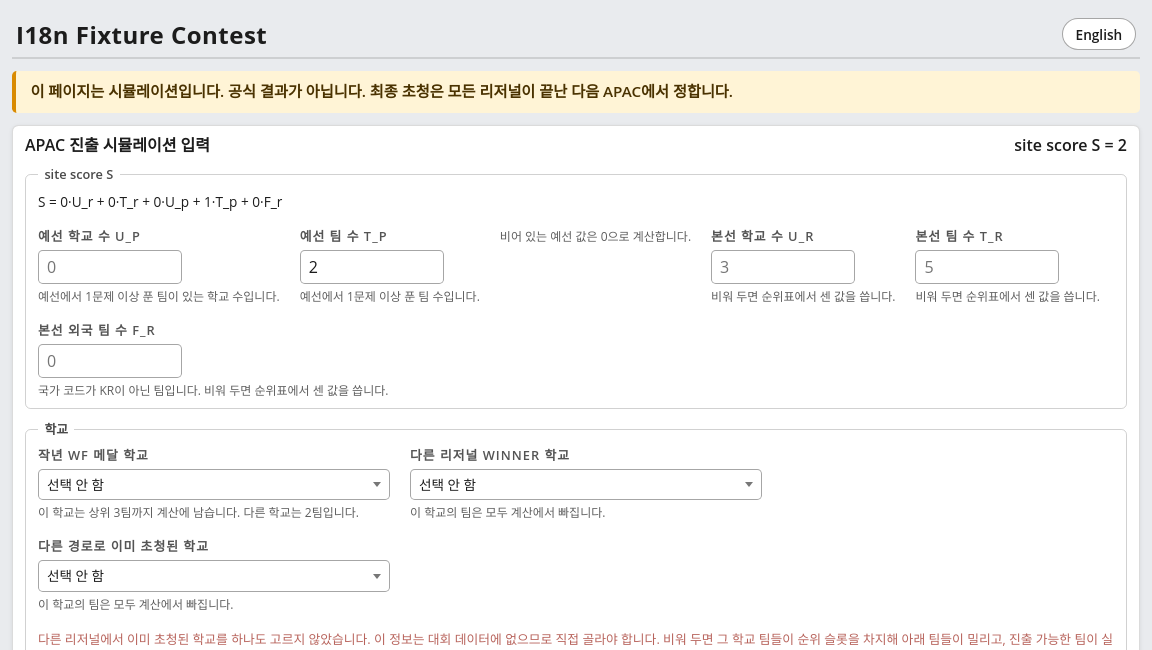
Test: language toggle › regional: banner, star legend and panel switch both ways
Expected: the text "이 페이지는 시뮬레이션입니다. 공식 결과가 아닙니다. 최종 초청은 모든 리저널이 끝난 다음 APAC에서 정합니다." is shown, [12,71,1140,113]
Expected: the text "APAC 진출 시뮬레이션 입력" is shown, [25,134,210,156]
Click the button "English": {"x": 1099, "y": 34} [1062,18,1136,50]
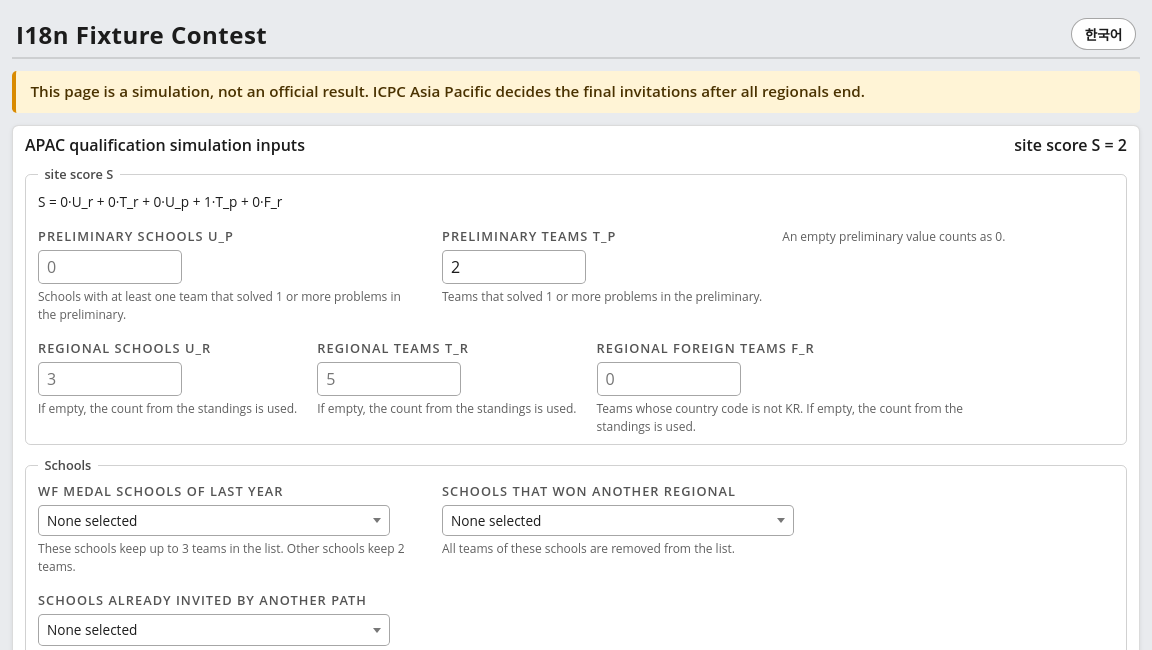
Expected: the text "This page is a simulation, not an official result. ICPC Asia Pacific decides the final invitations after all regionals e" is shown, [30,81,865,101]
Expected: the text "이 페이지는 시뮬레이션입니다. 공식 결과가 아닙니다. 최종 초청은 모든 리저널이 끝난 다음 APAC에서 정합니다." is gone
Expected: the text "APAC qualification simulation inputs" is shown, [25,134,305,156]
Click the button "한국어": {"x": 1103, "y": 34} [1071,18,1136,50]
(page scrolled)
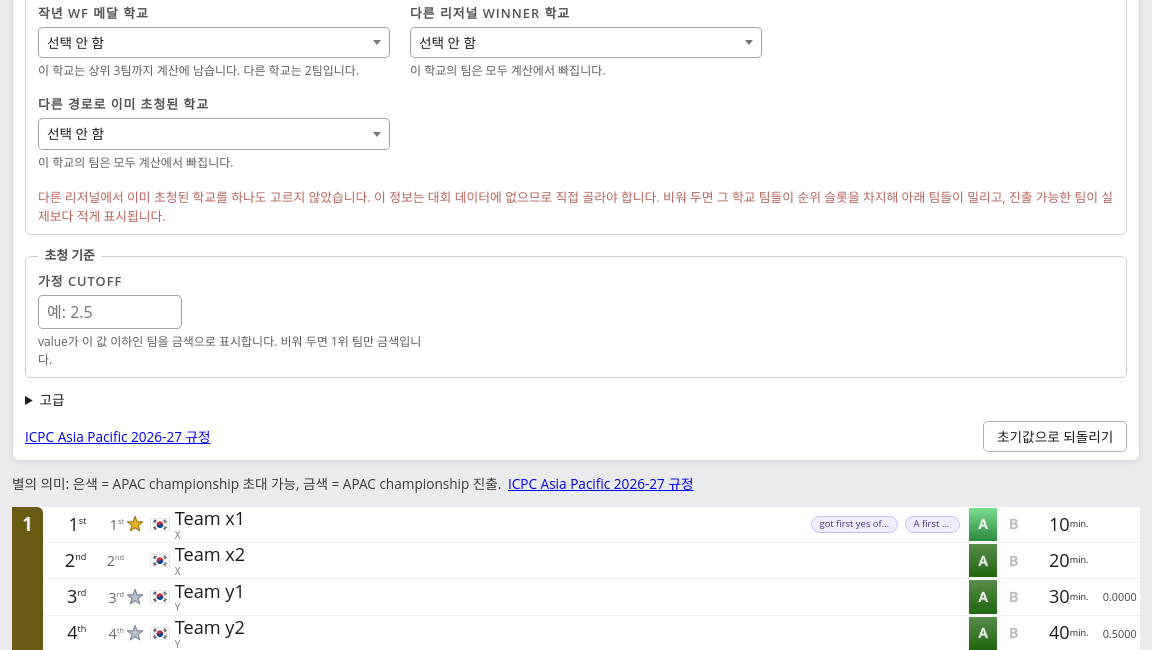
Expected: the button "초기값으로 되돌리기" is shown, [983,421,1127,452]
